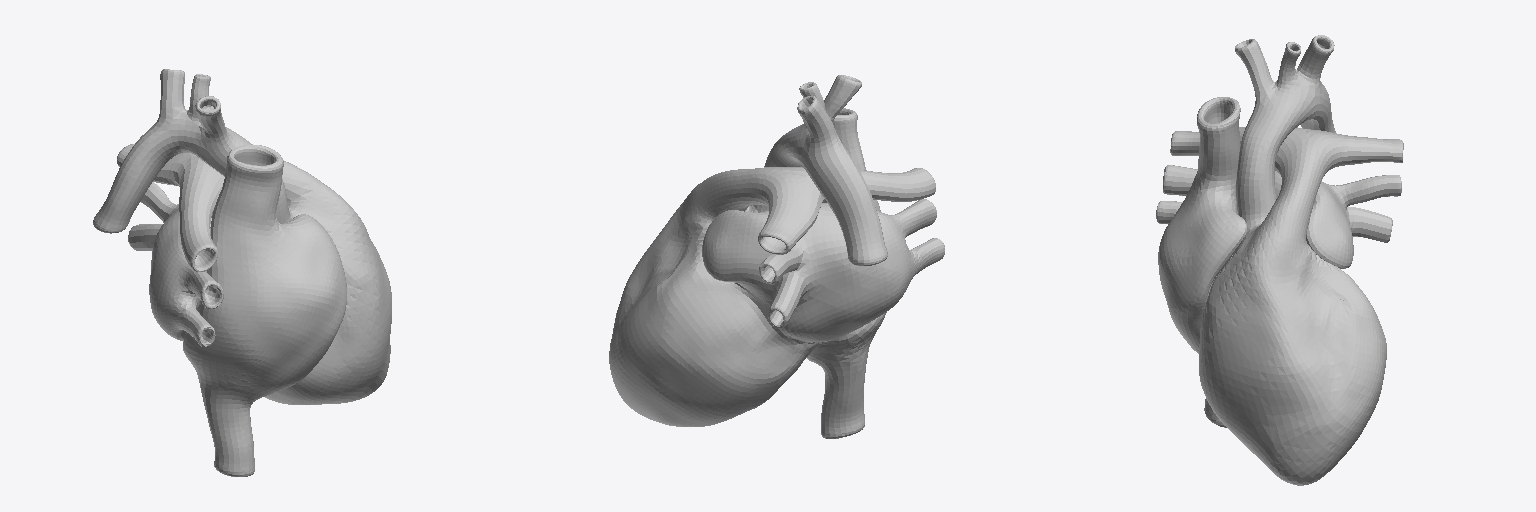
The picture shows the model from 3 angles: view 1: azimuth 30°, elevation 25°; view 2: azimuth 150°, elevation 25°; view 3: azimuth 270°, elevation 25°; orthographic projection.
Visible parts, largest first — view 1: HEART_PRO; view 2: HEART_PRO; view 3: HEART_PRO.
Part boxes in pixels (x1,y1,x2,y2): HEART_PRO: (93, 69, 391, 476); HEART_PRO: (609, 75, 944, 438); HEART_PRO: (1156, 35, 1403, 485).
Size of the model in its own units: 630 by 817 by 487.